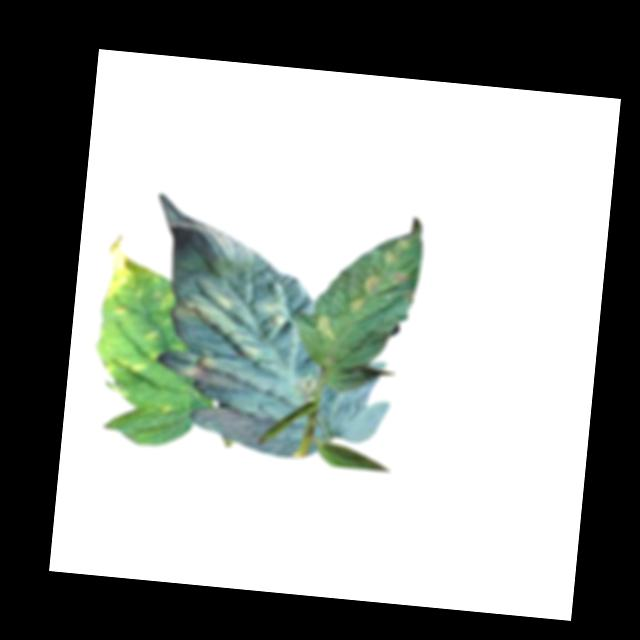Leaf_Mold: (167, 285, 264, 358), (99, 231, 156, 304), (178, 351, 245, 393), (99, 342, 157, 379), (345, 268, 379, 315), (262, 294, 291, 331), (310, 309, 338, 342), (288, 373, 319, 401)
